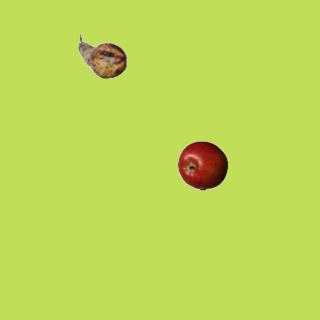Apple Braeburn: (177, 140, 227, 190)
Pear Abate: (77, 31, 127, 81)
